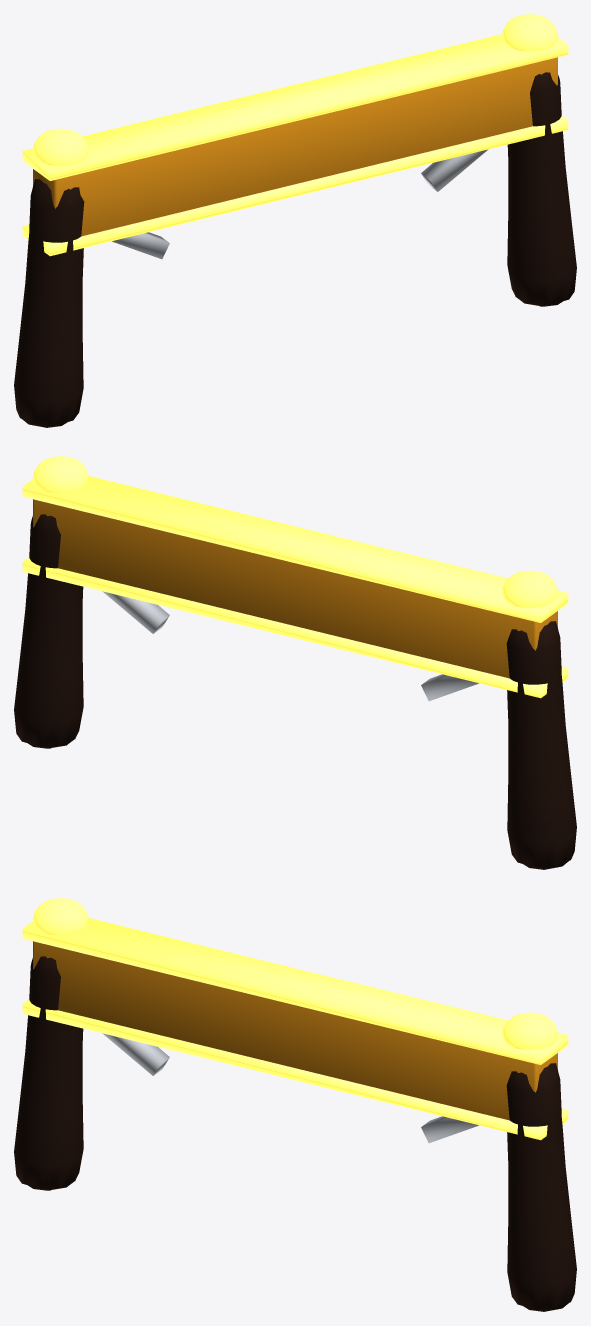
The model's file is prop_start_arch.glb.
3 views of the same model, one above another, from view 1: azimuth 30°, elevation 25°; view 2: azimuth 150°, elevation 25°; view 3: azimuth 330°, elevation 25° (orthographic).
Parts seen in each view (by area): view 1: StartTower_-1.0; view 2: StartTower_-1.0; view 3: StartTower_-1.0.
Boxes of the visible parts, left/top/right/bottom form: StartTower_-1.0: left=14, top=14, right=576, bottom=427; StartTower_-1.0: left=14, top=456, right=576, bottom=869; StartTower_-1.0: left=14, top=898, right=576, bottom=1311.
Size of the model in its own units: 31.64 by 15.98 by 3.44.
4 materials, 2 textured.
